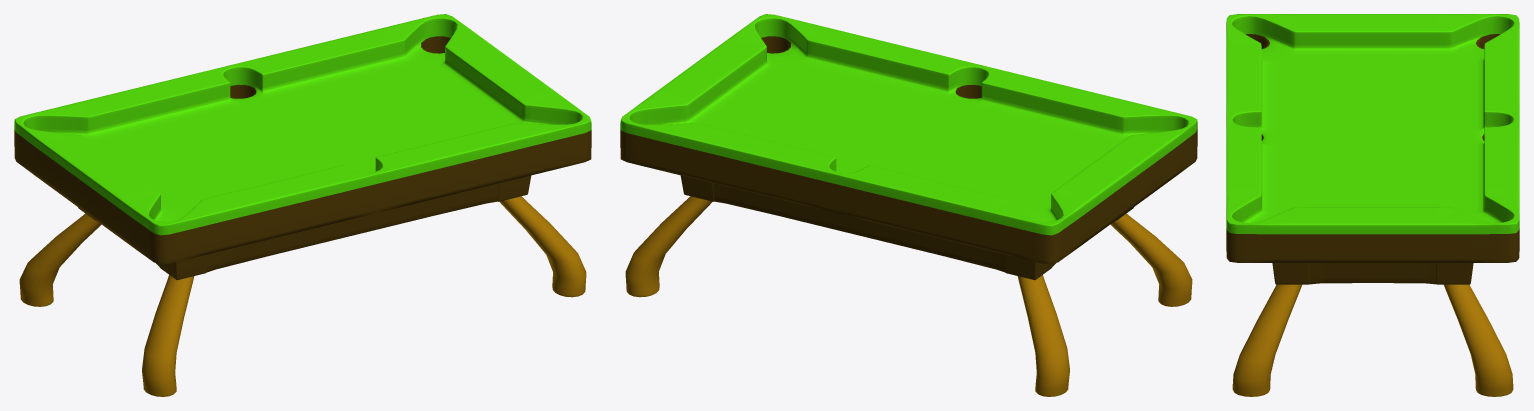
Rendered from PoolTable.fbx.
3 renders of one model, left to right at view 1: azimuth 30°, elevation 25°; view 2: azimuth 150°, elevation 25°; view 3: azimuth 270°, elevation 25°, orthographic.
Parts seen in each view (by area): view 1: PoolTable; view 2: PoolTable; view 3: PoolTable.
Part boxes in pixels (bbox=[...]): PoolTable: bbox=[14, 14, 591, 396]; PoolTable: bbox=[620, 14, 1197, 396]; PoolTable: bbox=[1226, 14, 1519, 396].
Size of the model in its own units: 312 by 119 by 183.
